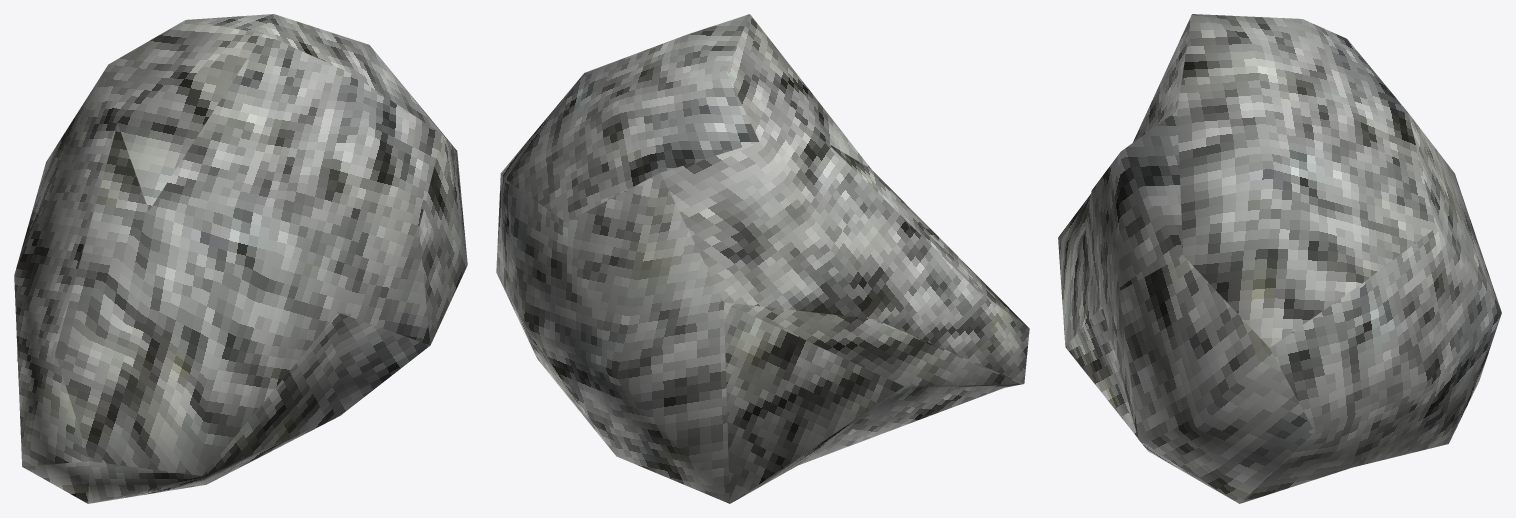
File: kaya3.fbx
The picture shows the model from 3 angles, left to right: view 1: azimuth 30°, elevation 25°; view 2: azimuth 150°, elevation 25°; view 3: azimuth 270°, elevation 25°; orthographic projection. The views are drawn at different scales.
Parts seen in each view (by area): view 1: kaya3; view 2: kaya3; view 3: kaya3.
Boxes of the visible parts, left/top/right/bottom form: kaya3: left=14, top=14, right=467, bottom=503; kaya3: left=496, top=14, right=1029, bottom=503; kaya3: left=1058, top=14, right=1501, bottom=503.
Size of the model in its own units: 349 by 282 by 252.
